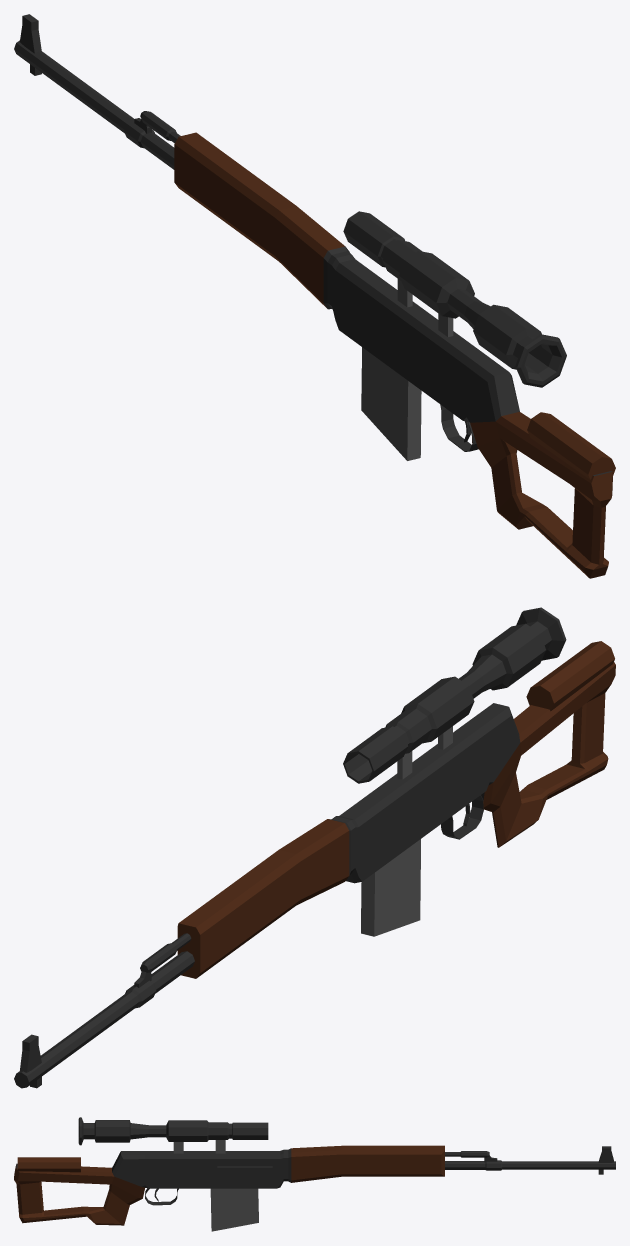
The model's file is Dragunov.fbx.
3 renders of one model, top to bottom at view 1: azimuth 30°, elevation 25°; view 2: azimuth 150°, elevation 25°; view 3: azimuth 270°, elevation 25°, orthographic. The views are drawn at different scales.
Visible parts, largest first — view 1: Body, Magazine; view 2: Body, Magazine; view 3: Body, Magazine.
Part boxes in pixels (left/top/right/bottom): Body: left=14, top=14, right=615, bottom=578; Magazine: left=361, top=347, right=421, bottom=460; Body: left=14, top=607, right=615, bottom=1088; Magazine: left=361, top=839, right=420, bottom=936; Body: left=14, top=1117, right=615, bottom=1225; Magazine: left=210, top=1188, right=258, bottom=1231.
Bounding box in the file's own units: 56.51 × 235 × 1144.
